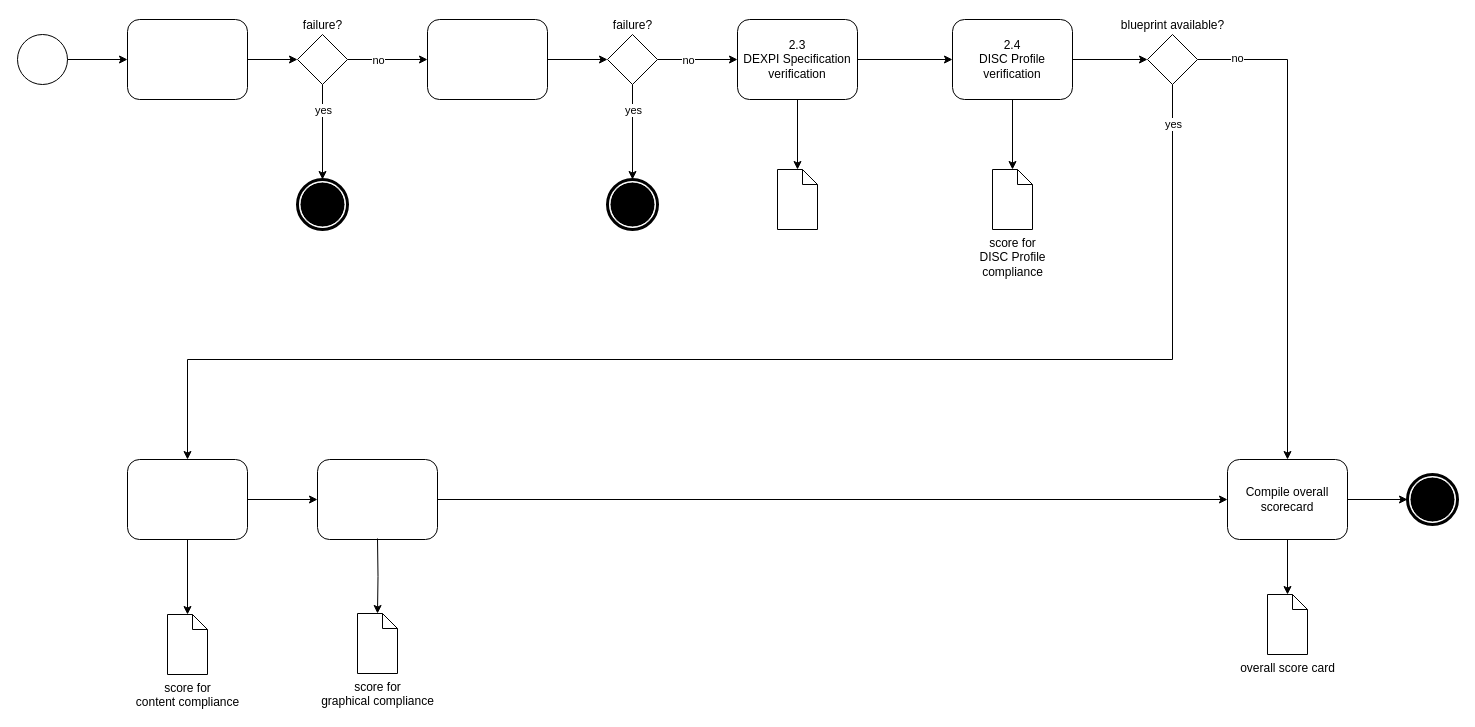
This 1475x727 diagram has some shape labels left out. The shapes that lost their labels are listed below. From the top down, each one's box as (x1, y1, x2, y2) in pixels, then its label:
(126, 18, 248, 100): 2.1 XML verification
(426, 18, 548, 100): 2.2 XML Schema verification
(776, 168, 818, 230): score for DEXPI Specification compliance
(126, 458, 248, 540): 3. content verification
(316, 458, 438, 540): 4. graphical verification
